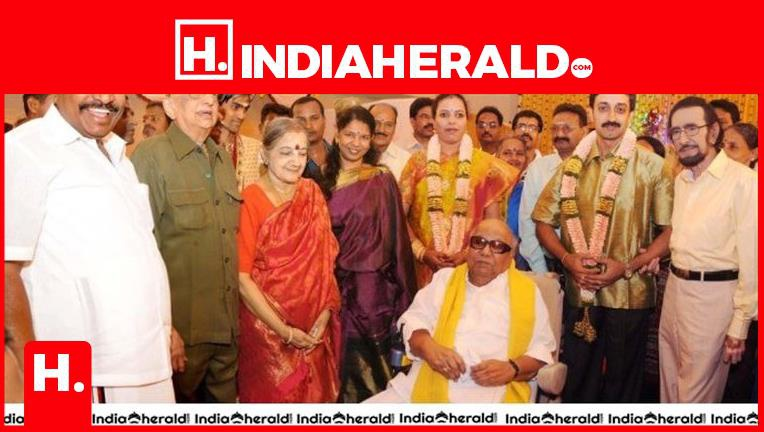bad: (664, 113, 708, 156), (271, 137, 314, 180), (593, 98, 629, 134), (433, 106, 469, 142), (337, 126, 373, 162), (541, 114, 577, 150)
